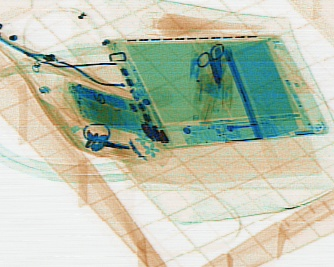scissors: (195, 42, 224, 89)
